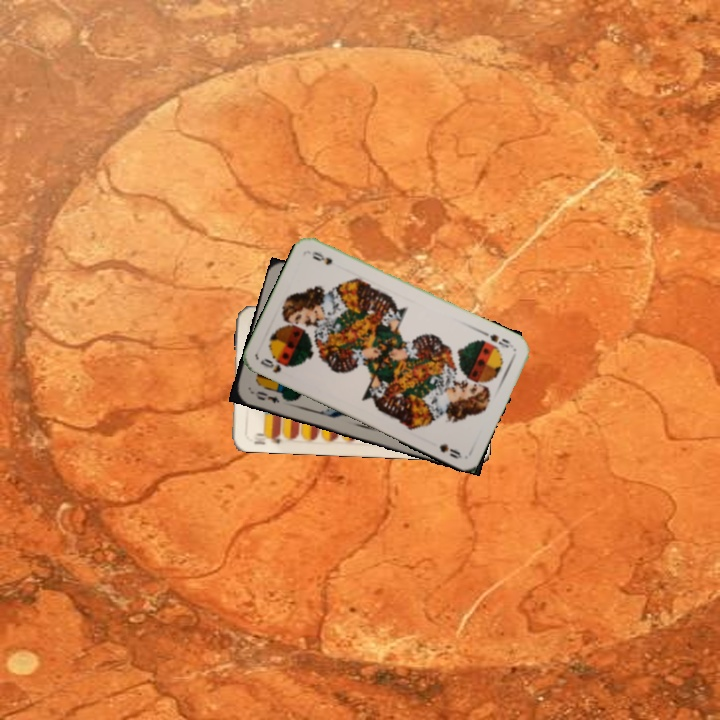E10: (252, 428, 283, 446)
EO: (247, 387, 282, 406)
SO: (478, 327, 516, 351), (256, 354, 291, 376)
